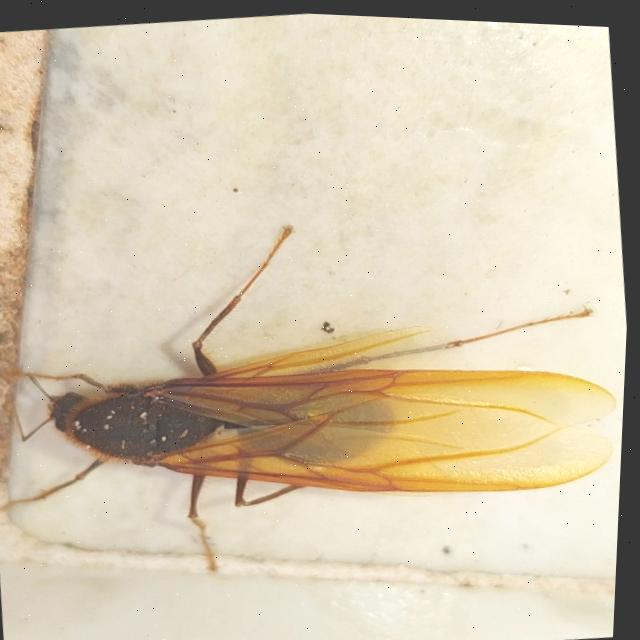Alive-Male-Alate: (0, 176, 634, 606)
